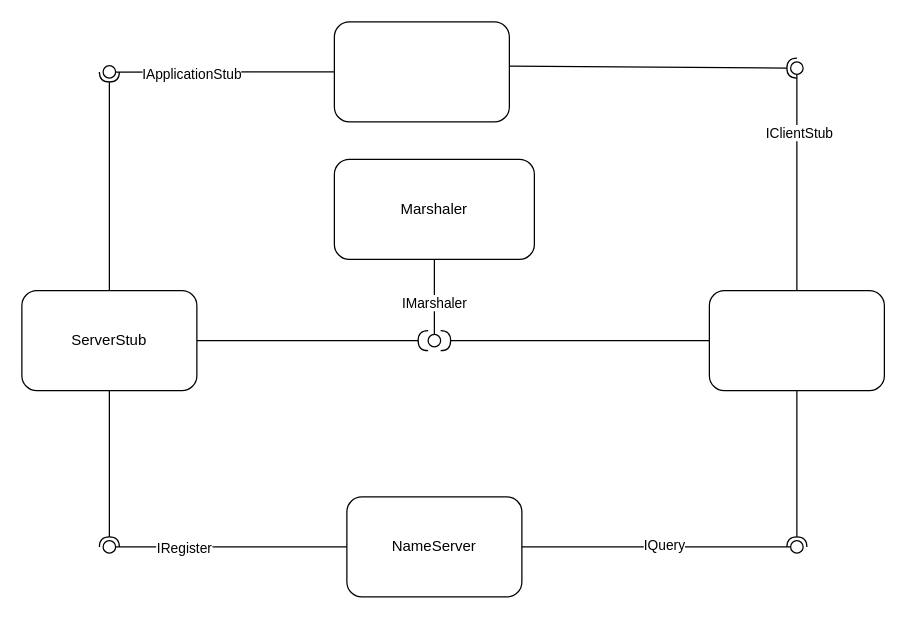
Image size: 906x619. Some labels were removed from this diagram. Each missing label, with the centre of its shape:
"ApplicationStub" belongs at point (421, 71).
"ClientStub" belongs at point (796, 340).
